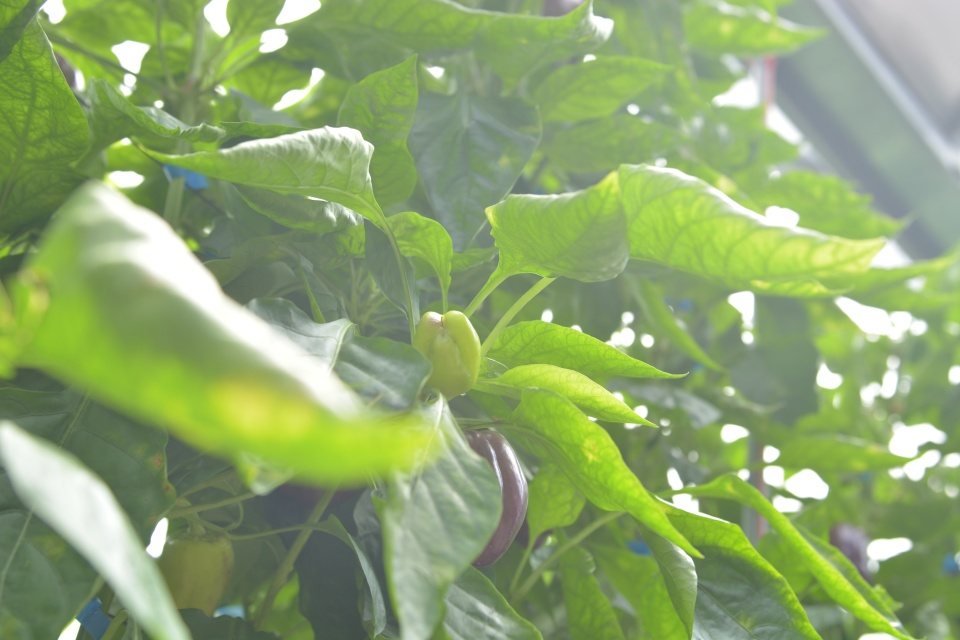fruit: (458, 424, 531, 570)
immature: (158, 523, 235, 618), (409, 307, 482, 403)
